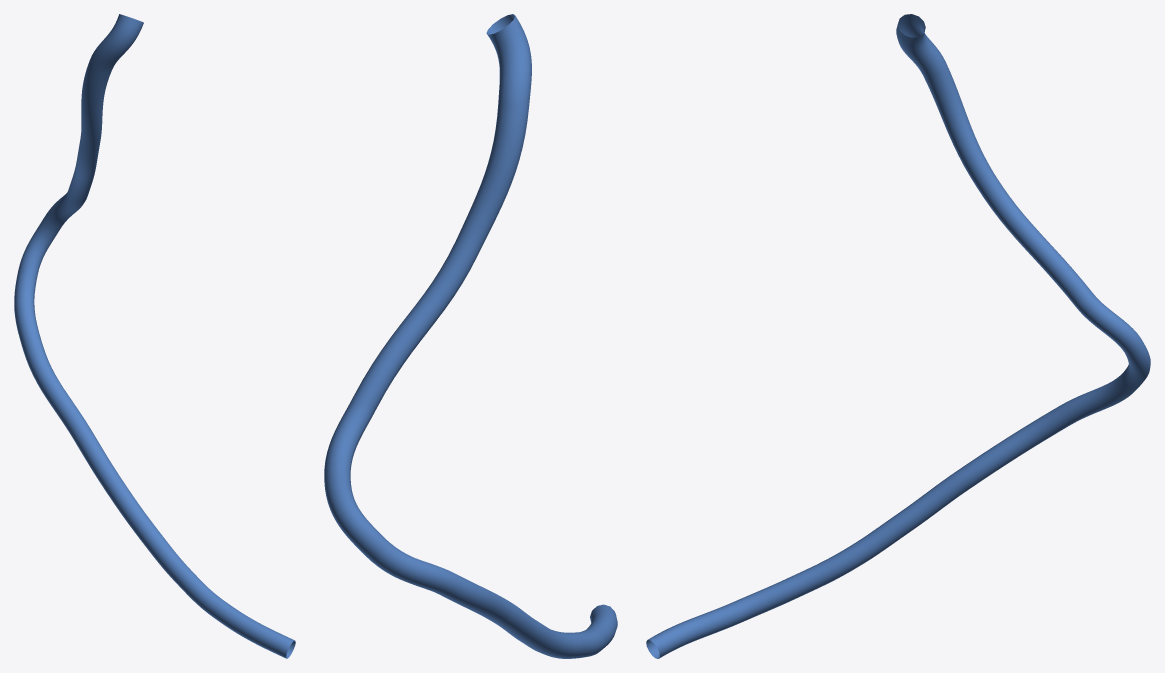
3 views of the same model, side by side, from view 1: azimuth 30°, elevation 25°; view 2: azimuth 150°, elevation 25°; view 3: azimuth 270°, elevation 25° (orthographic). The views are drawn at different scales.
Parts seen in each view (by area): view 1: 右侧面静脉; view 2: 右侧面静脉; view 3: 右侧面静脉.
Boxes of the visible parts, x1,y1,x2,y2 form: 右侧面静脉: (14,14,295,658); 右侧面静脉: (324,14,617,658); 右侧面静脉: (646,14,1150,658).
Bounding box in the file's own units: 0.0146 × 0.091 × 0.0672.
